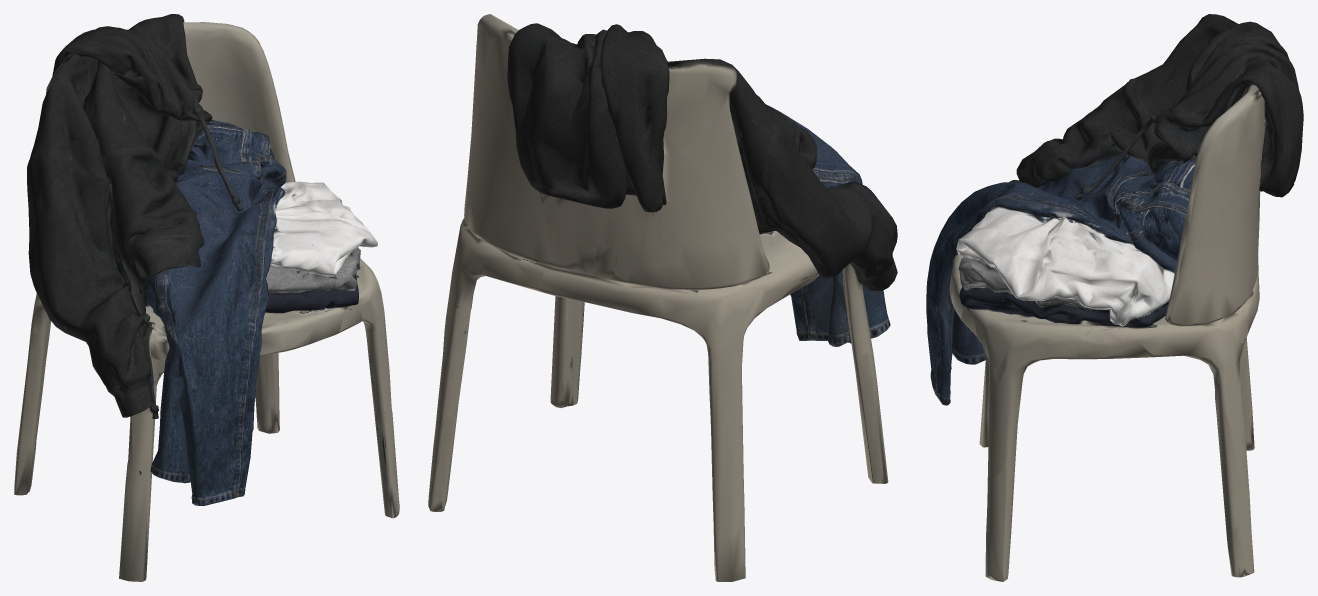
File: desktop.glb
The picture shows the model from 3 angles, left to right: view 1: azimuth 30°, elevation 25°; view 2: azimuth 150°, elevation 25°; view 3: azimuth 270°, elevation 25°; orthographic projection. The views are drawn at different scales.
Parts seen in each view (by area): view 1: d-chairlaundry; view 2: d-chairlaundry; view 3: d-chairlaundry.
Part boxes in pixels (x1=…): d-chairlaundry: x1=14, y1=14, x2=399, y2=581; d-chairlaundry: x1=428, y1=14, x2=897, y2=581; d-chairlaundry: x1=926, y1=14, x2=1303, y2=581.
Size of the model in its own units: 0.5491 by 0.7512 by 0.5562.
1 material, 1 textured.
